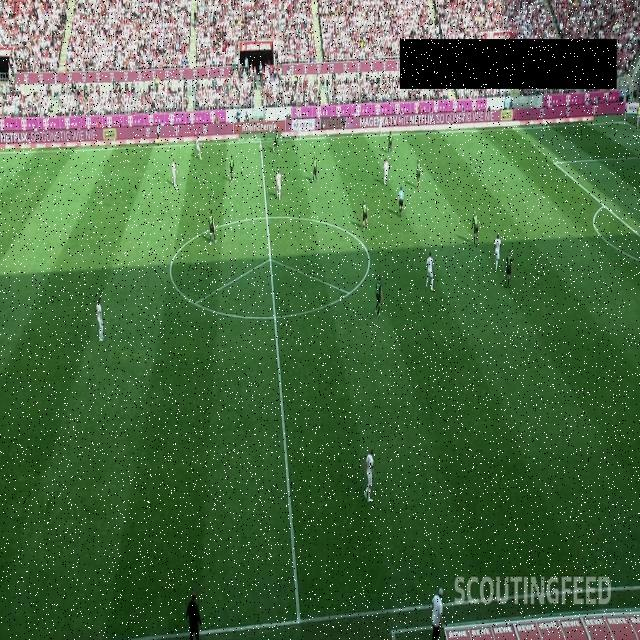Corner: (624, 95, 626, 122)
Referee: (398, 186, 404, 217), (156, 121, 162, 145)
TEAM 1: (364, 448, 376, 502), (425, 251, 435, 292), (96, 298, 105, 342), (494, 233, 502, 272), (275, 169, 283, 201), (382, 157, 390, 185), (195, 130, 202, 160), (171, 158, 177, 188), (296, 118, 302, 140), (377, 115, 383, 137)
TEAM 2: (504, 249, 514, 288), (471, 208, 481, 246), (208, 208, 218, 244), (375, 276, 383, 316), (362, 198, 368, 230), (416, 159, 422, 189), (312, 155, 318, 183), (387, 130, 393, 154), (272, 132, 278, 152), (230, 154, 234, 184)
